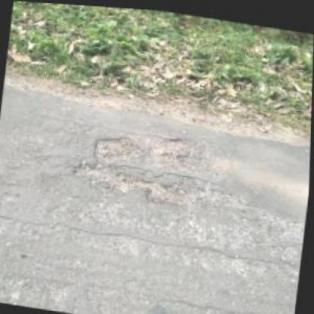Hueco: (68, 119, 213, 209)
